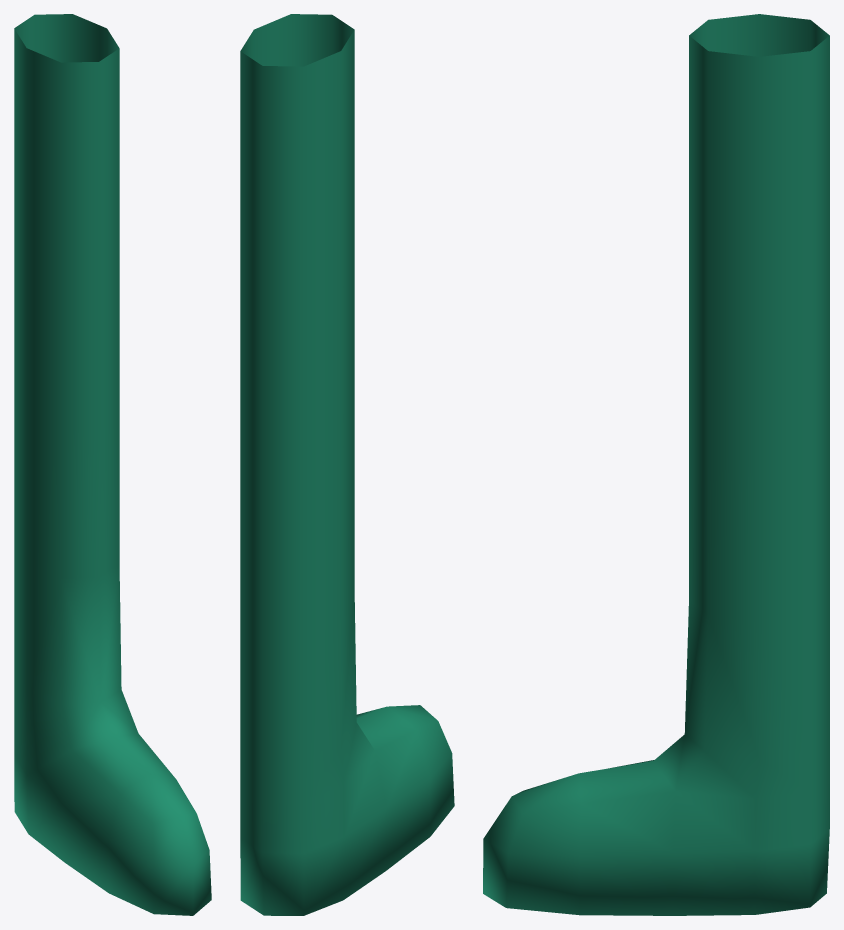
Rendered from Bmo_pierna_izq.obj.
3 views of the same model, side by side, from view 1: azimuth 30°, elevation 25°; view 2: azimuth 150°, elevation 25°; view 3: azimuth 270°, elevation 25° (orthographic). The views are drawn at different scales.
Visible parts, largest first — view 1: Bmo_pierna_izq; view 2: Bmo_pierna_izq; view 3: Bmo_pierna_izq.
Boxes of the visible parts, left/top/right/bottom form: Bmo_pierna_izq: left=14, top=14, right=211, bottom=915; Bmo_pierna_izq: left=240, top=14, right=454, bottom=915; Bmo_pierna_izq: left=483, top=14, right=829, bottom=915.
Bounding box in the file's own units: 0.0697 × 0.6124 × 0.2235.
